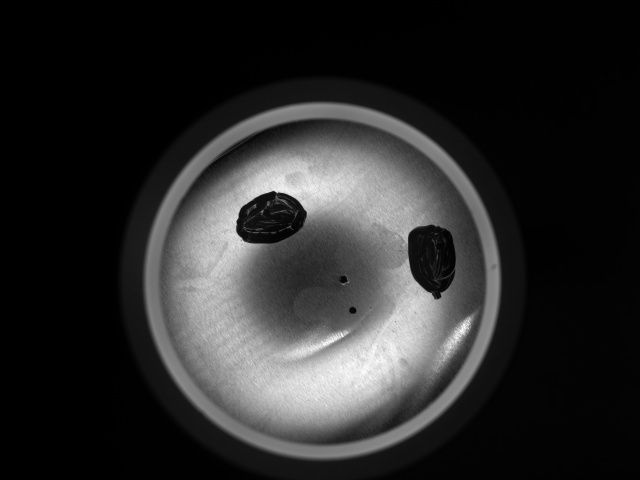zang_wu: (404, 223, 459, 301), (234, 190, 310, 246)
zhen_kong: (346, 304, 360, 318), (338, 272, 350, 286)
